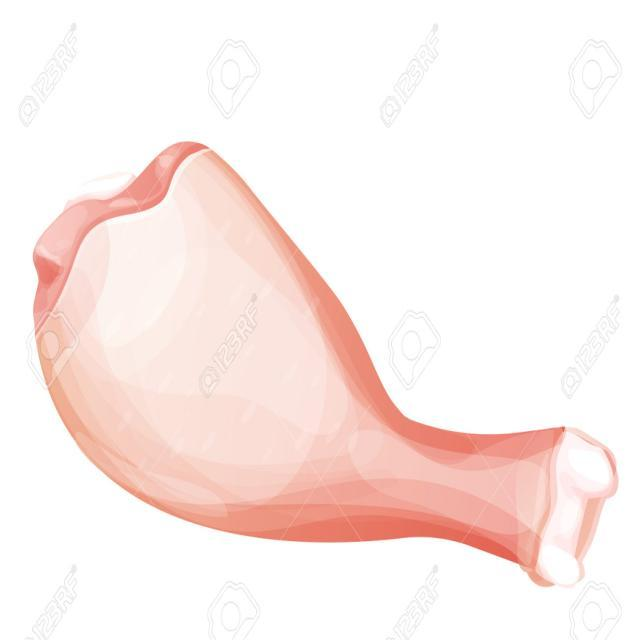leg: (32, 136, 608, 589)
